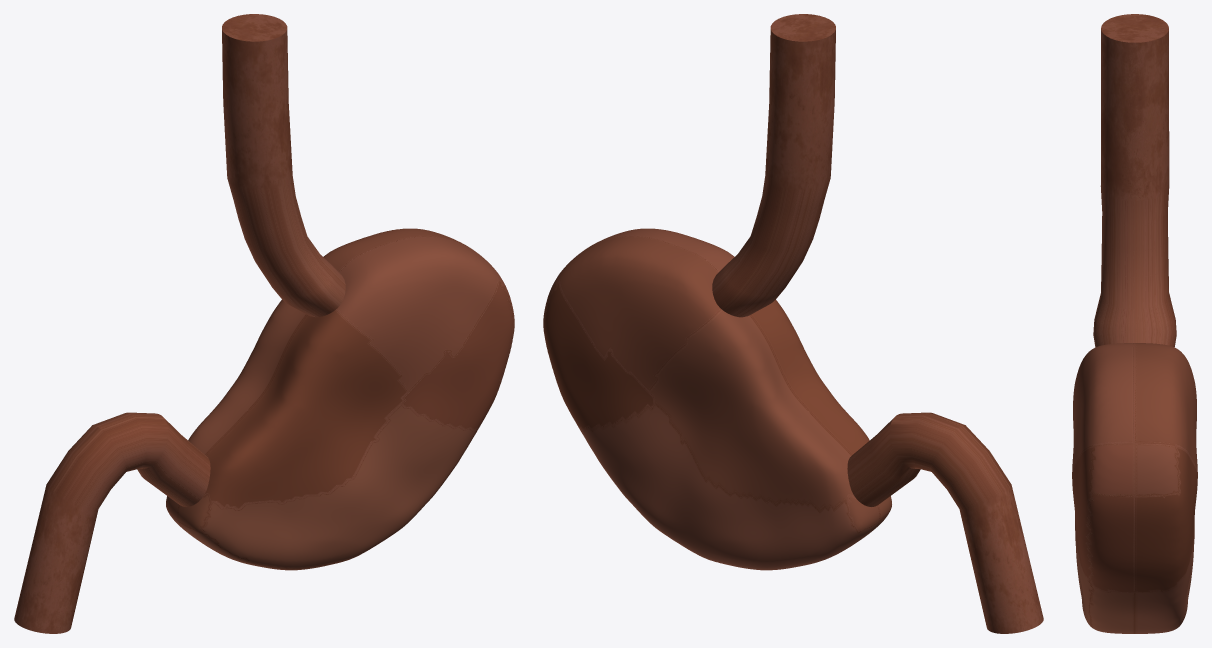
File: lambung.fbx
3 renders of one model, left to right at view 1: azimuth 30°, elevation 25°; view 2: azimuth 150°, elevation 25°; view 3: azimuth 270°, elevation 25°, orthographic. The views are drawn at different scales.
Visible parts, largest first — view 1: Cube; view 2: Cube; view 3: Cube.
Boxes of the visible parts, bbox=[...] form: Cube: bbox=[14, 14, 514, 633]; Cube: bbox=[543, 14, 1043, 633]; Cube: bbox=[1072, 14, 1197, 633].
Bounding box in the file's own units: 3.2 × 3.48 × 0.6966.
Materials: 1 (1 with a texture image).
